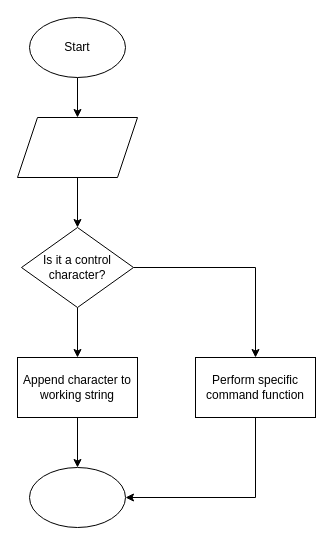
This 333x545 diagram has some shape labels left out. Here are the shapes that lost their labels. From the top down, the box of each, then its label:
(16, 116, 138, 178): A character is input
(28, 466, 126, 528): End
